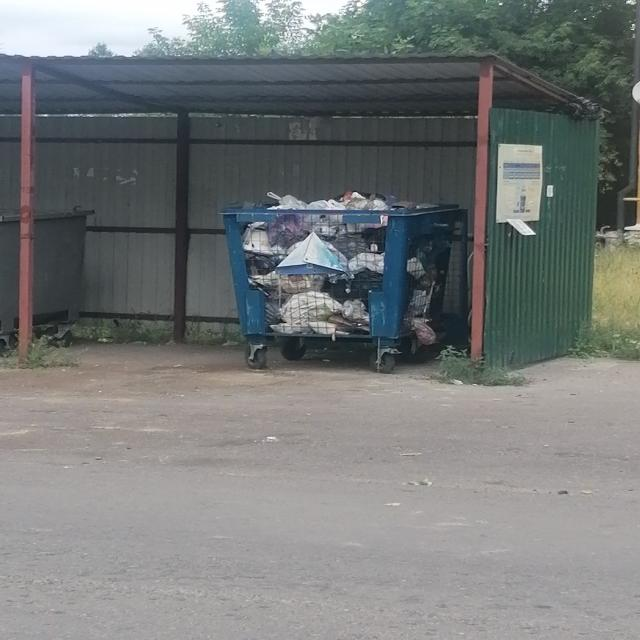bin: (218, 194, 467, 353), (2, 203, 96, 340)
plastic: (243, 223, 386, 333), (403, 235, 448, 348), (265, 195, 442, 210)
